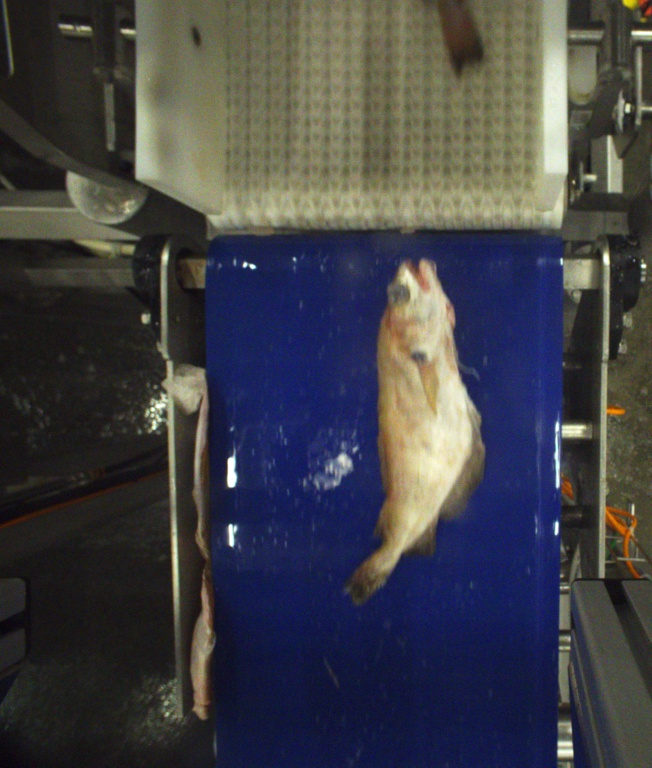BIB: (351, 252, 483, 604)
